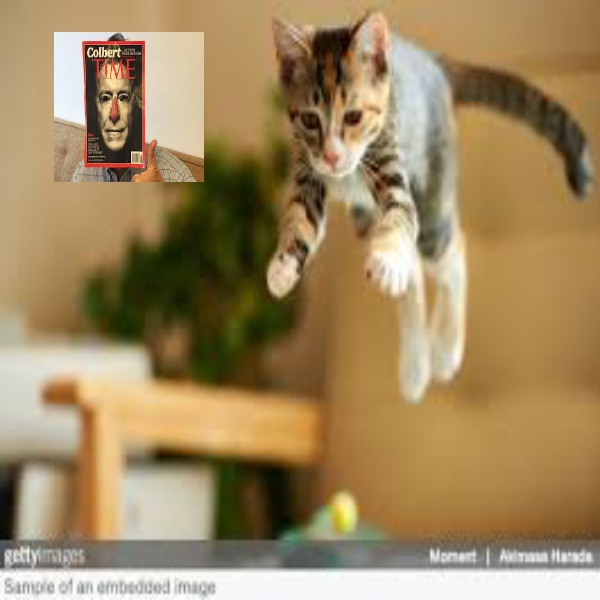time_cover: (75, 32, 146, 181)
